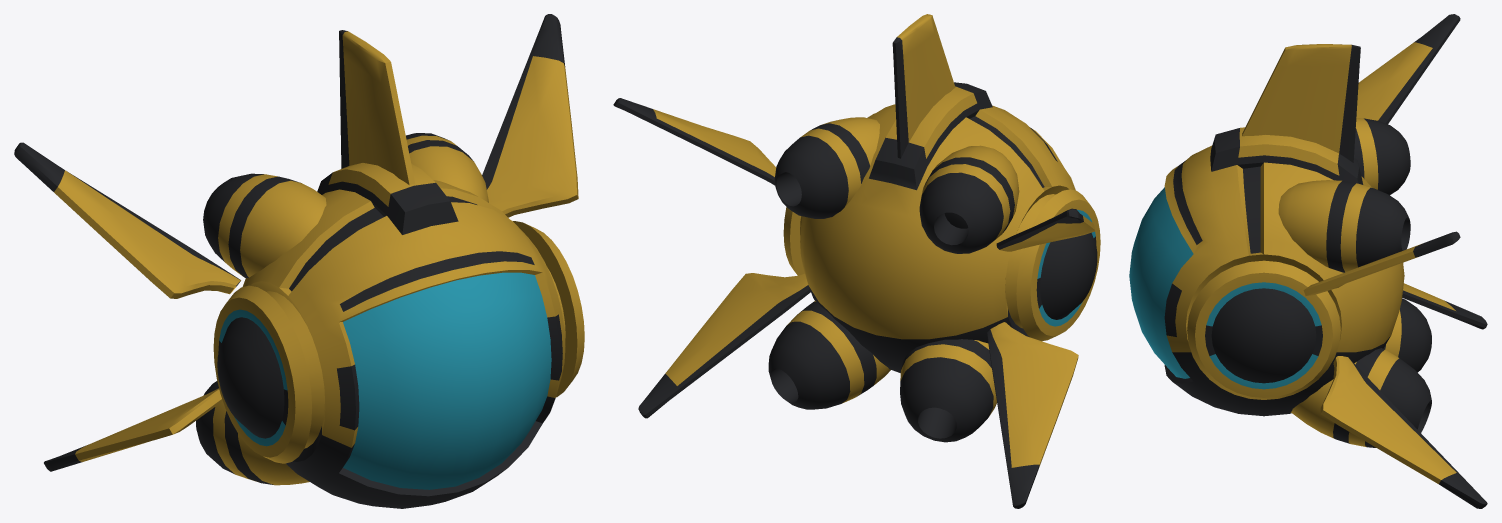
File: Spaceship_BarbaraTheBee.glb
3 renders of one model, left to right at view 1: azimuth 30°, elevation 25°; view 2: azimuth 150°, elevation 25°; view 3: azimuth 270°, elevation 25°, orthographic. The views are drawn at different scales.
Visible parts, largest first — view 1: Spaceship_BarbaraTheBee; view 2: Spaceship_BarbaraTheBee; view 3: Spaceship_BarbaraTheBee.
Boxes of the visible parts, x1=… form: Spaceship_BarbaraTheBee: x1=14, y1=14, x2=584, y2=508; Spaceship_BarbaraTheBee: x1=613, y1=14, x2=1100, y2=508; Spaceship_BarbaraTheBee: x1=1129, y1=14, x2=1487, y2=508.
Size of the model in its own units: 5.87 by 4.56 by 3.97.
1 material, 1 textured.
